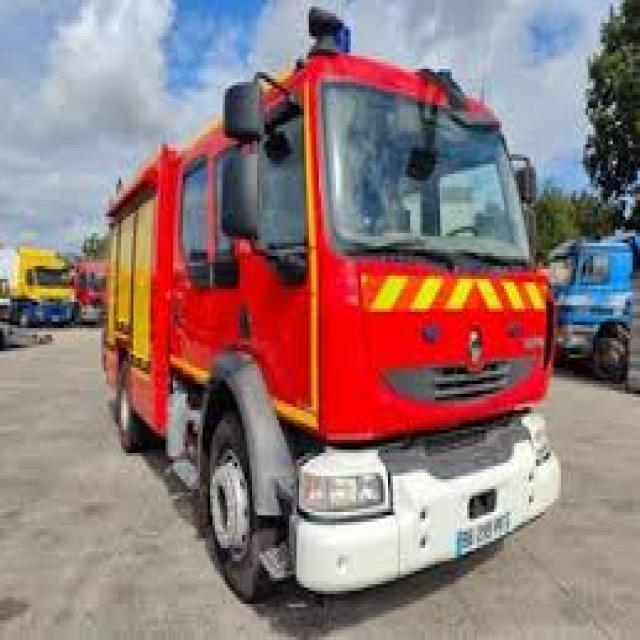pompier: (105, 11, 553, 600)
